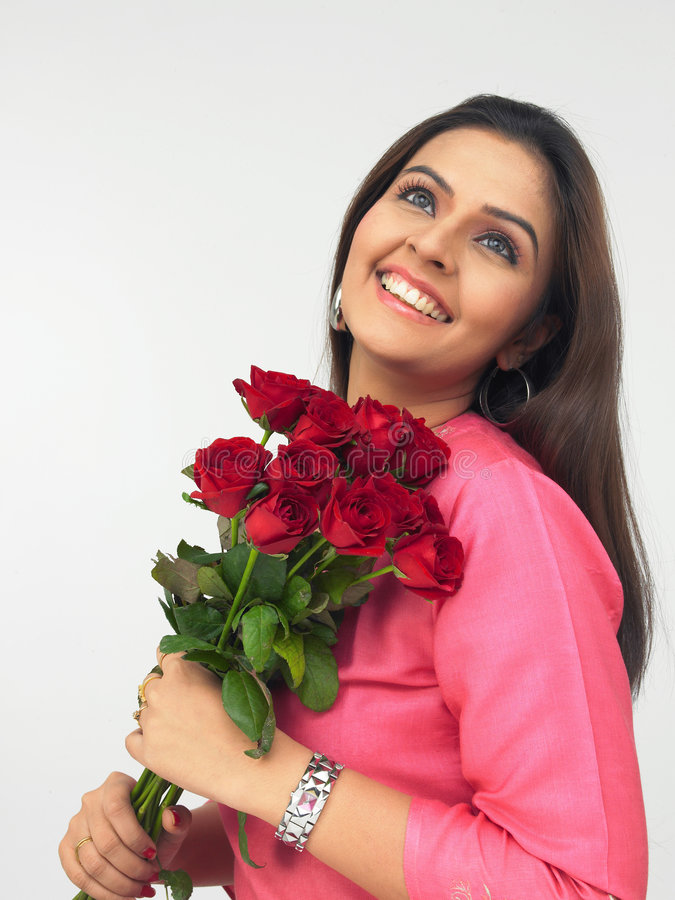RedRose: (169, 424, 277, 517), (328, 468, 415, 570), (229, 341, 317, 432), (257, 476, 311, 558)
